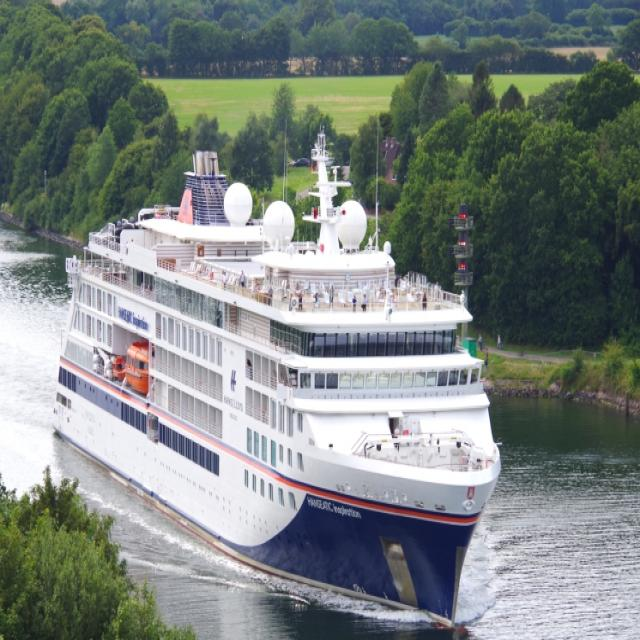cruises: (51, 127, 508, 635)
